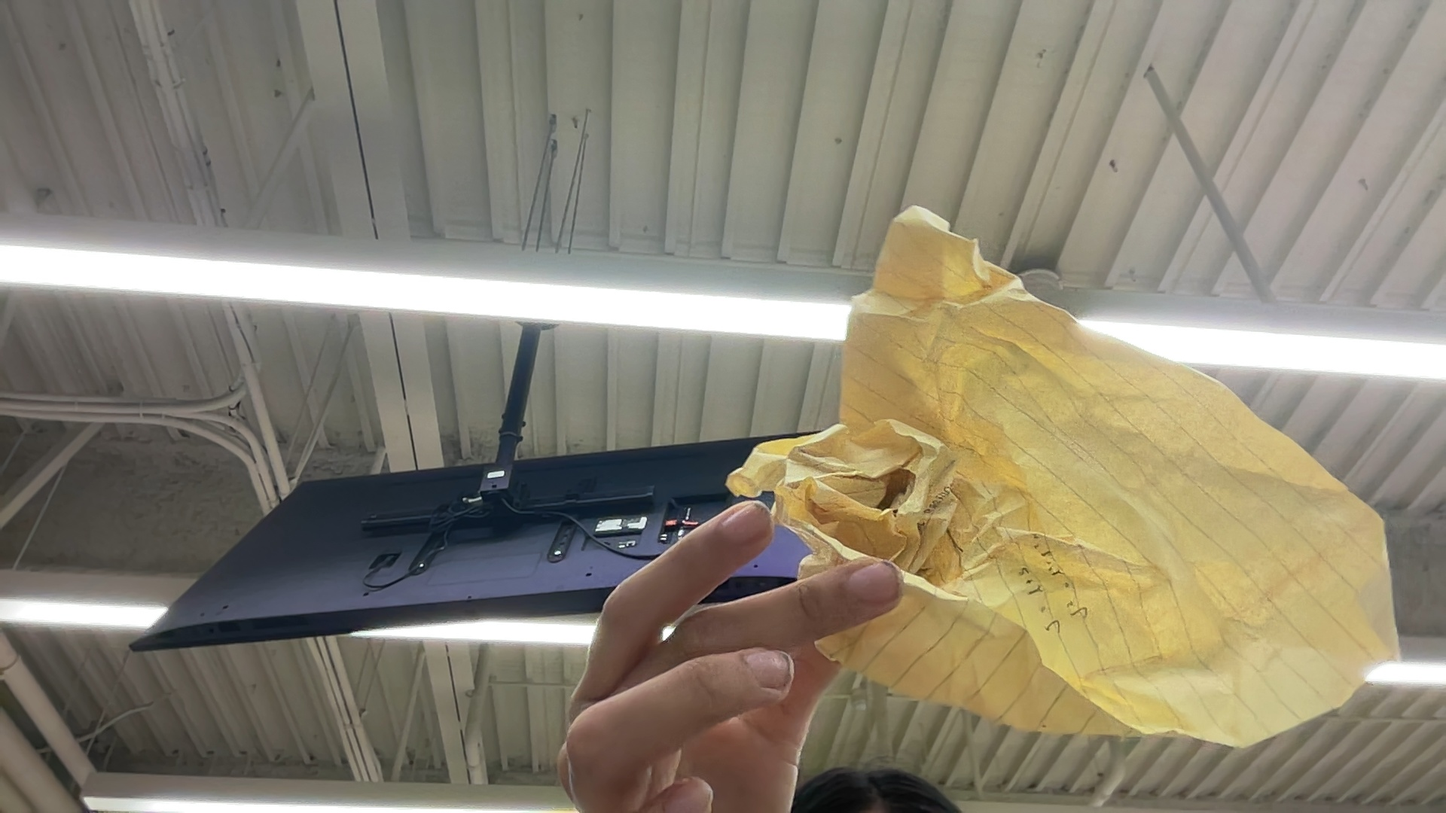Paper: (1366, 657, 1444, 682)
